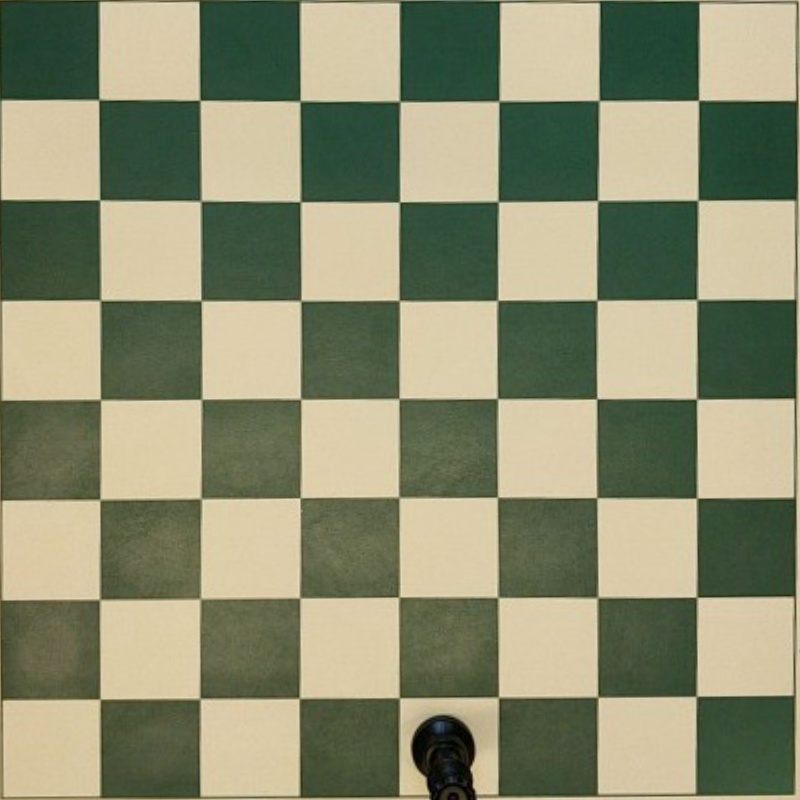black-queen: (410, 714, 477, 799)
